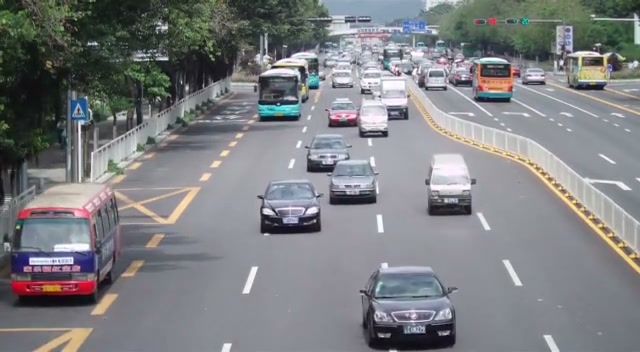bus: (8, 181, 122, 305), (257, 67, 302, 121), (472, 57, 514, 101), (565, 52, 609, 89), (273, 58, 309, 99), (291, 51, 320, 89)
car: (359, 264, 458, 349), (256, 179, 323, 234), (424, 153, 474, 215), (328, 158, 380, 205), (306, 134, 351, 173), (358, 102, 389, 138), (326, 99, 359, 127), (423, 68, 448, 91), (449, 66, 473, 85), (521, 67, 546, 85)
